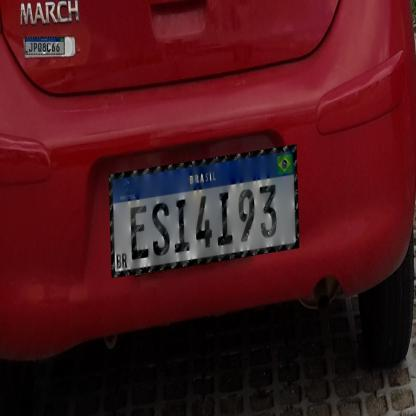PlacaM: (109, 144, 299, 278), (24, 37, 64, 54)
